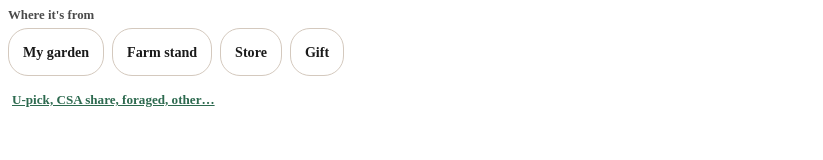
WhereFromField — the kinds and their words › the reveal names what it holds, opens the other four in the same group, and goes
Click the button with test id "t-source-more".
click(113, 100)  # box [8,76,219,124]
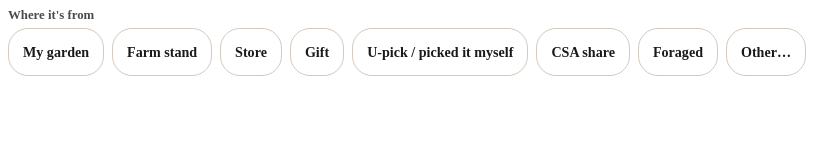
Expected: the button with test id "t-source-more" is gone
